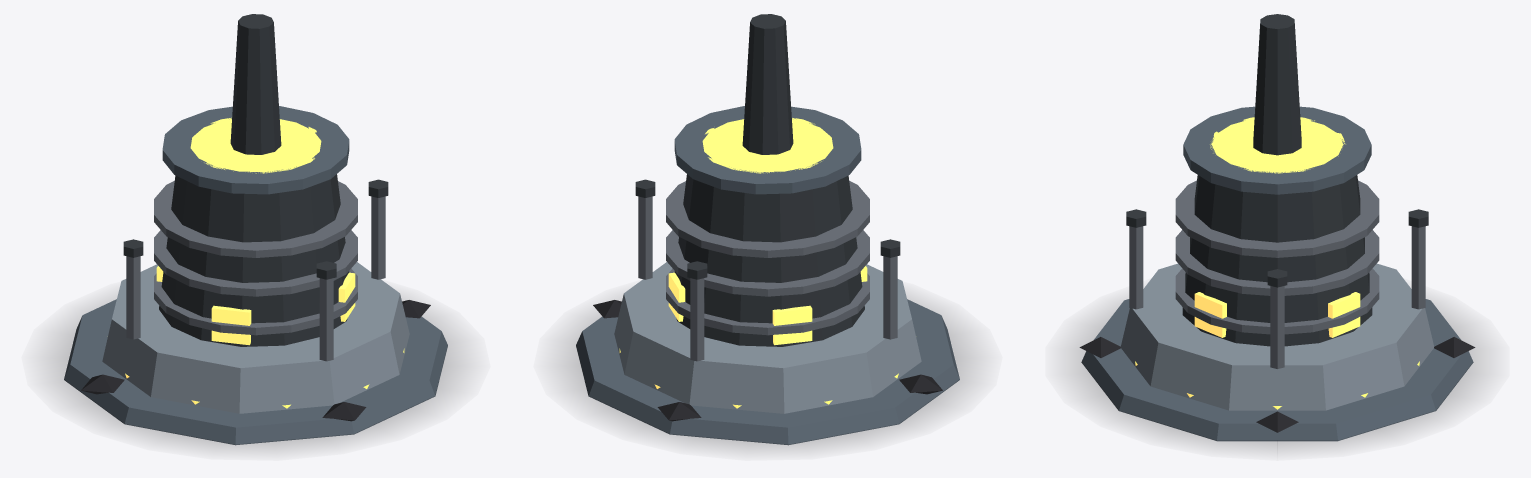
File: furnace_t1.glb
3 renders of one model, left to right at view 1: azimuth 30°, elevation 25°; view 2: azimuth 150°, elevation 25°; view 3: azimuth 270°, elevation 25°, orthographic.
Visible parts, largest first — view 1: furnace_t1; view 2: furnace_t1; view 3: furnace_t1.
Part boxes in pixels (x1,y1,x2,y2): furnace_t1: (50, 14, 460, 448); furnace_t1: (563, 14, 973, 448); furnace_t1: (1074, 14, 1480, 451).
Size of the model in its own units: 14.8 by 11.5 by 14.65.
